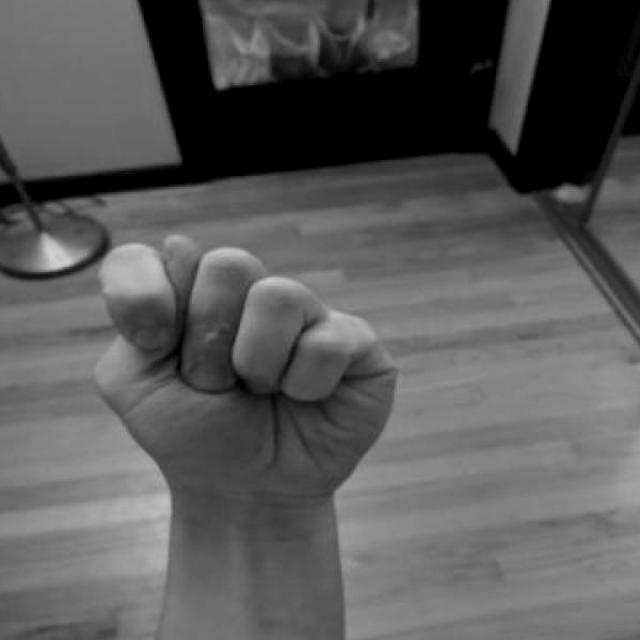T: (389, 0, 408, 107), (141, 72, 159, 174)
